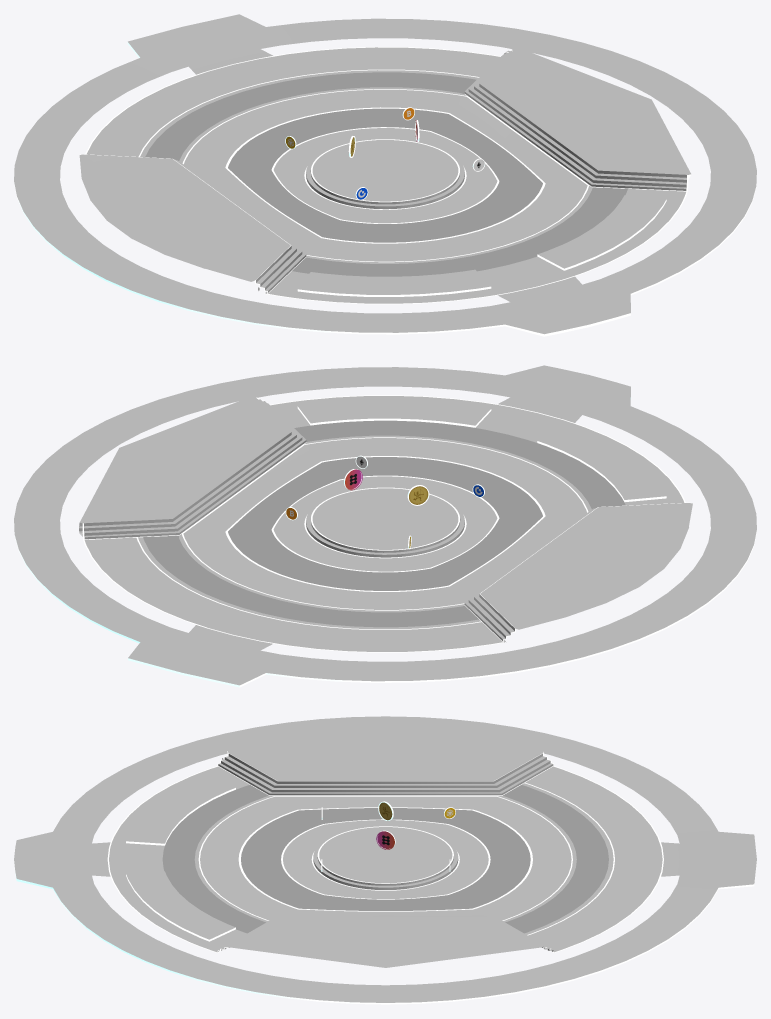
The model's file is Coin.fbx.
3 views of the same model, one above another, from view 1: azimuth 30°, elevation 25°; view 2: azimuth 150°, elevation 25°; view 3: azimuth 270°, elevation 25° (orthographic). The views are drawn at different scales.
Parts seen in each view (by area): view 1: First_Floor_001; view 2: First_Floor_001; view 3: First_Floor_001.
Boxes of the visible parts, <box> form: First_Floor_001: <box>14,14,756,336</box>; First_Floor_001: <box>14,365,756,687</box>; First_Floor_001: <box>14,716,756,1004</box>.
Bounding box in the file's own units: 7568 × 553 × 8284.
